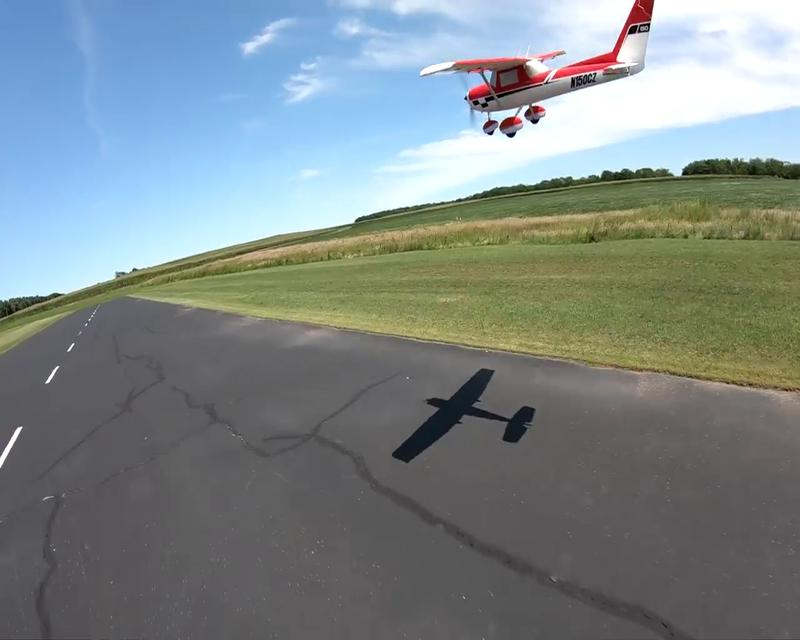UAV: (420, 0, 655, 138)
